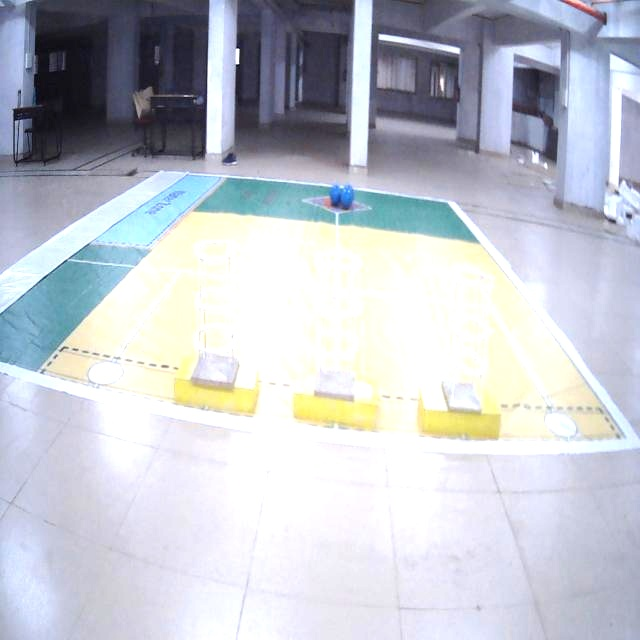silo: (444, 252, 501, 423), (314, 232, 369, 408), (189, 221, 244, 394)
